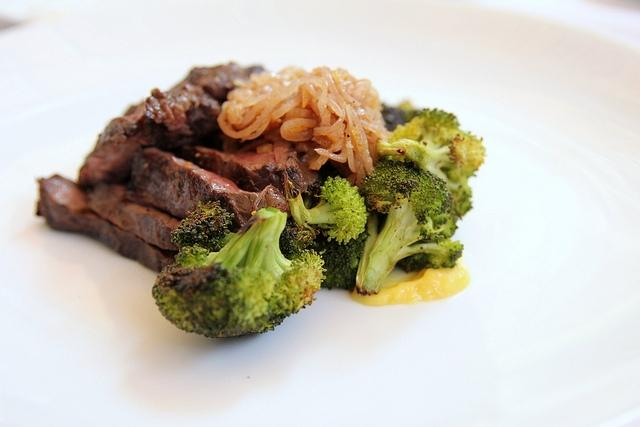broccoli: (152, 200, 328, 339), (354, 160, 466, 296), (381, 108, 486, 218), (295, 176, 369, 246), (304, 224, 371, 291)
onion: (217, 75, 331, 138), (312, 101, 345, 136), (233, 100, 270, 130), (320, 67, 345, 110), (271, 87, 301, 122), (280, 118, 318, 142), (314, 136, 348, 162), (361, 120, 392, 142), (336, 83, 362, 107), (345, 120, 356, 172), (225, 104, 252, 124), (283, 108, 319, 123), (300, 84, 318, 108), (243, 93, 271, 108), (250, 70, 288, 80), (234, 78, 258, 90), (346, 82, 356, 96), (344, 76, 356, 83), (366, 135, 373, 145)
